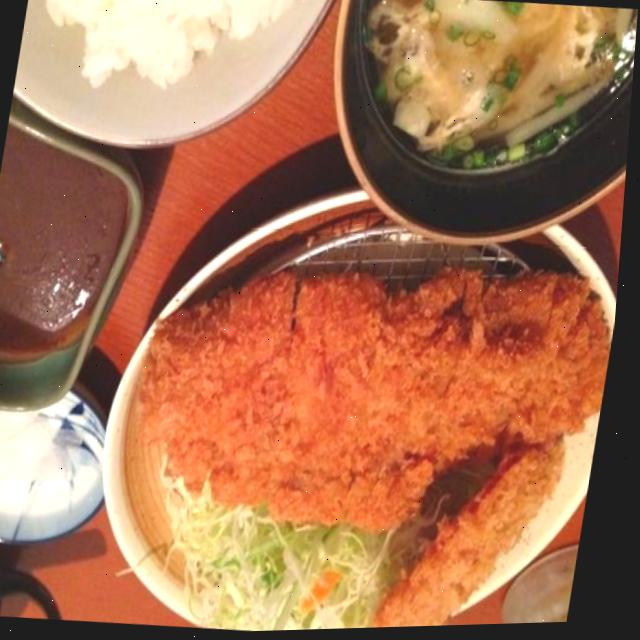炸货点心: (83, 193, 628, 637)
